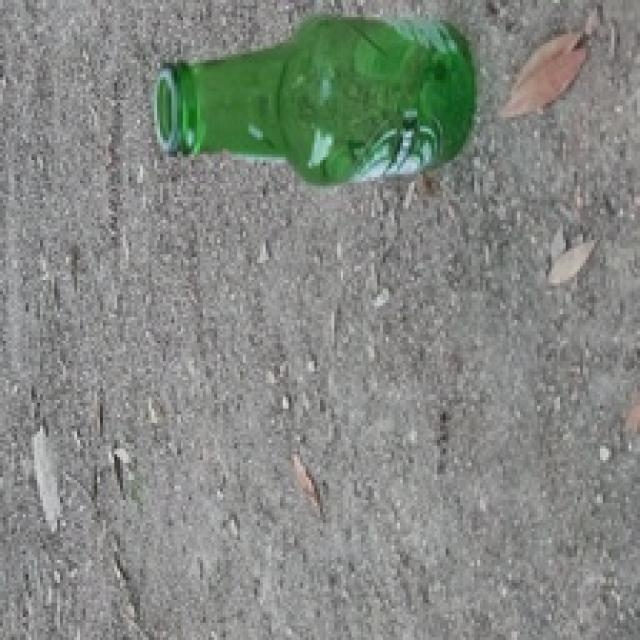Glass: (152, 14, 478, 189)
